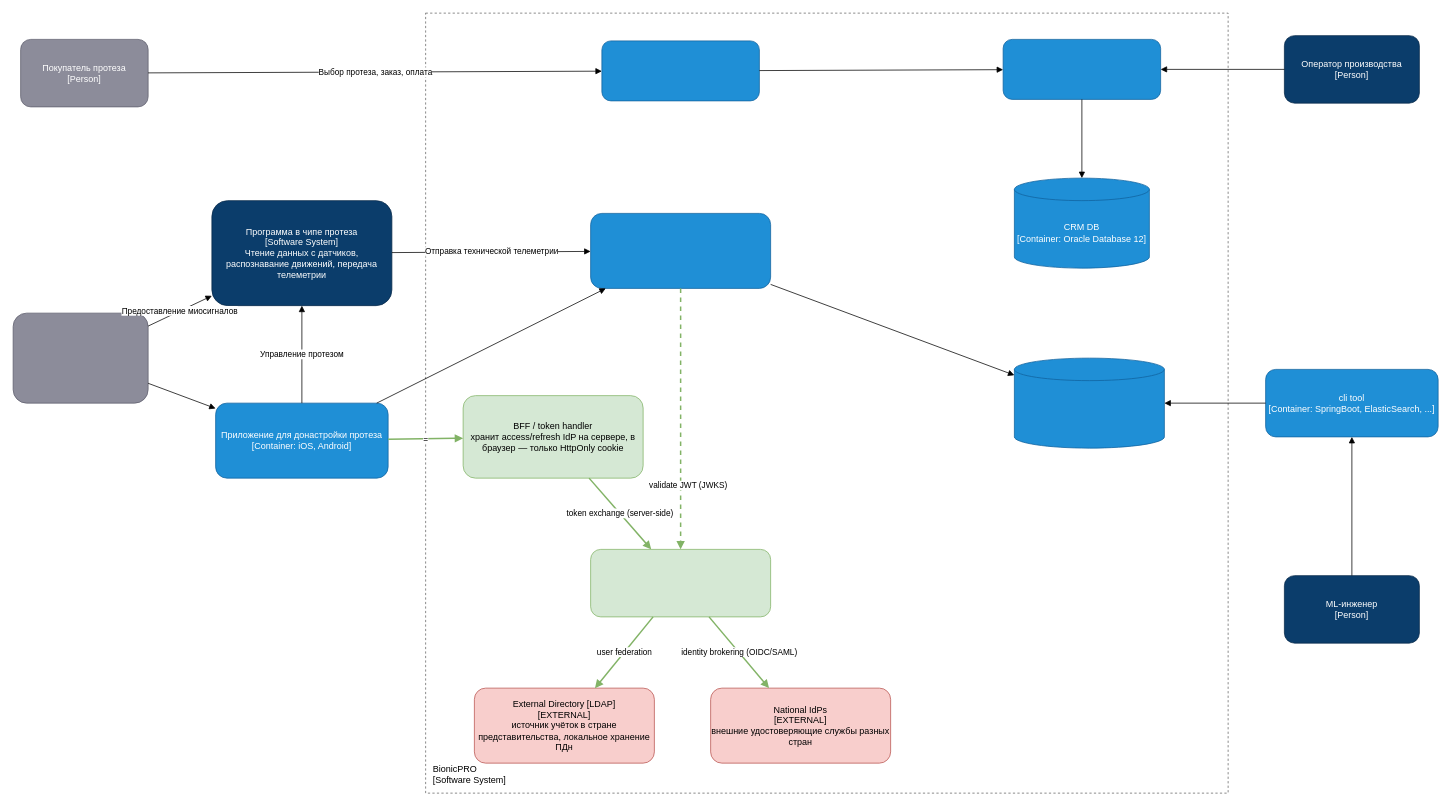
The diagram is 1451 pixels wide and 806 high, and some of its shapes have lost their labels. The shapes that lost their labels are listed below. From the top down, each one's centre as x and y in pixels, then its label:
(x=680, y=70): Интернет-магазин [Container: Битрикс24]
(x=1081, y=69): CRM [Container: Битрикс24]
(x=680, y=250): API [Container: SpringBoot, ElasticSearch, ...]
(x=80, y=357): Пилот протеза [Person] С этого человека считываются данные
(x=1089, y=402): База данных [Container: PostgreSQL]
(x=680, y=583): Keycloak [IdP / Broker] Auth Code + PKCE (S256)
